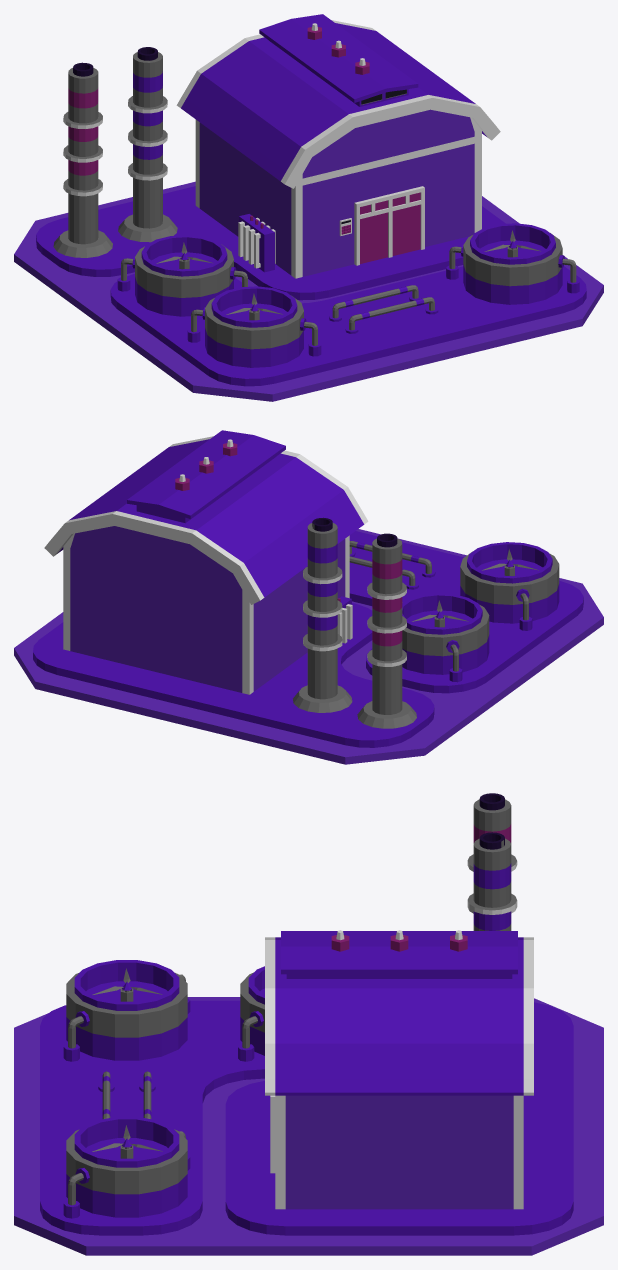
Rendered from PowerPlant_Purple.fbx.
3 renders of one model, top to bottom at view 1: azimuth 30°, elevation 25°; view 2: azimuth 150°, elevation 25°; view 3: azimuth 270°, elevation 25°, orthographic. The views are drawn at different scales.
Visible parts, largest first — view 1: Power plant purple.001; view 2: Power plant purple.001; view 3: Power plant purple.001.
Part boxes in pixels (box(x1,y1,x2,y2)): Power plant purple.001: box(14, 14, 603, 401); Power plant purple.001: box(14, 430, 603, 764); Power plant purple.001: box(14, 793, 603, 1255).
Size of the model in its own units: 576 by 289 by 576.
